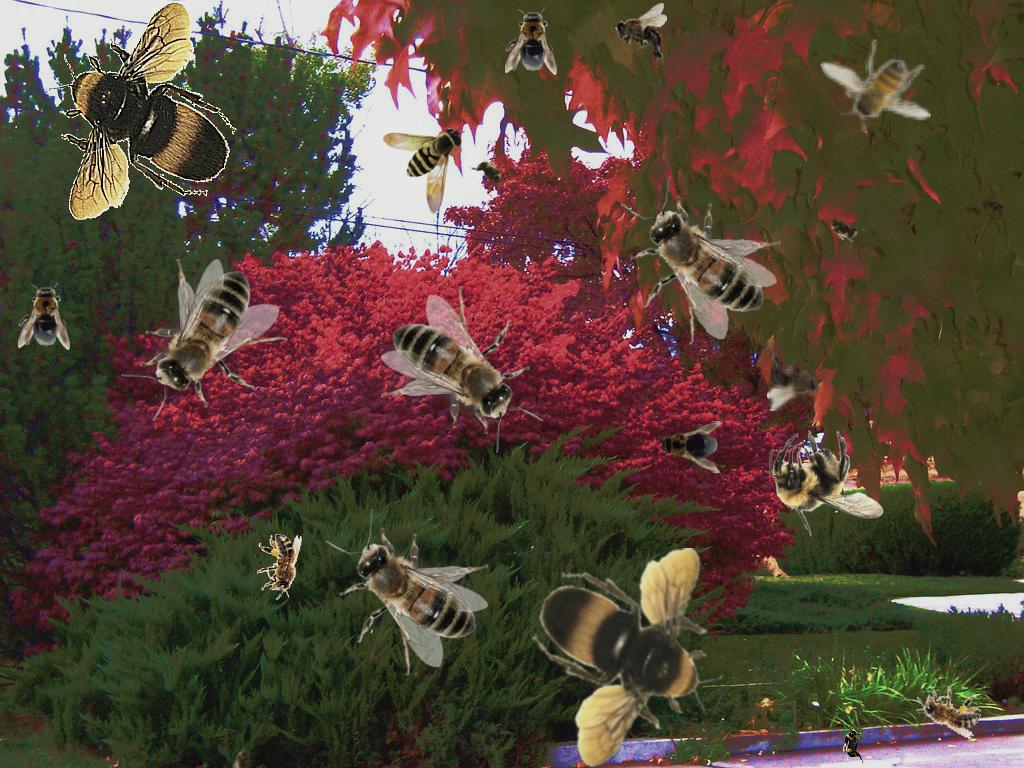Bee: (46, 0, 237, 220), (532, 548, 723, 768), (609, 171, 786, 353), (326, 509, 488, 676), (381, 286, 543, 453), (121, 259, 288, 421), (769, 430, 884, 537), (820, 39, 931, 133), (383, 126, 465, 214), (910, 678, 986, 741), (655, 421, 723, 473), (505, 7, 557, 75), (18, 282, 70, 350), (614, 3, 667, 65), (767, 349, 820, 411), (257, 534, 302, 600), (467, 151, 513, 195), (820, 207, 866, 249), (842, 724, 864, 764), (230, 741, 258, 768)
